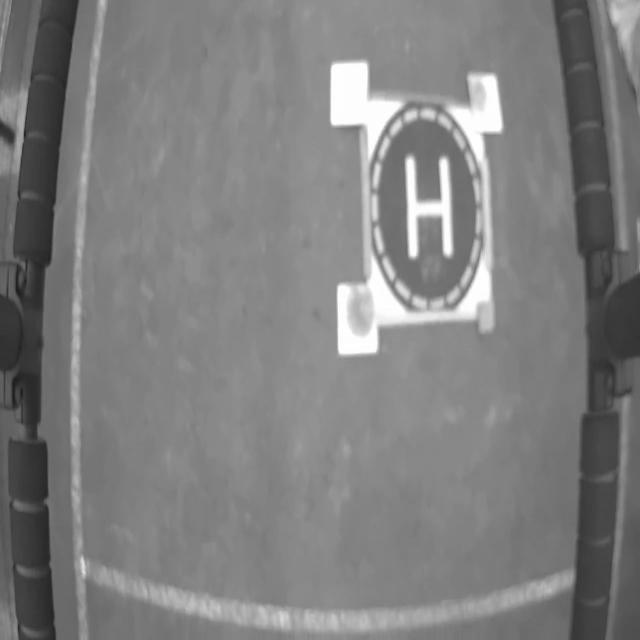Helipad: (405, 154, 454, 259)
